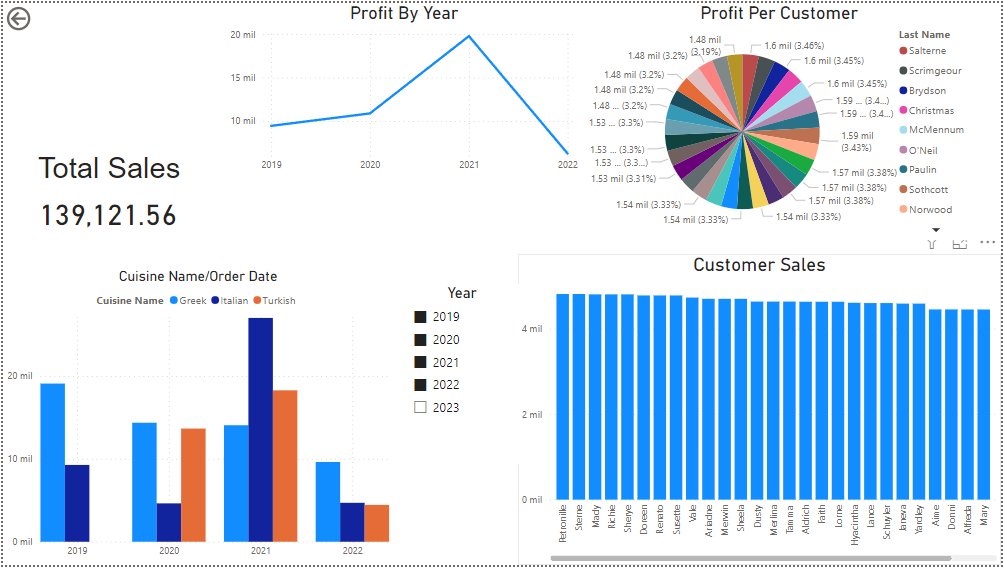

What the dashboard file says about the page in this screenshot:
{"tool":"powerbi","page":{"name":"Página 1","canvas":[1280,720],"ordinal":0},"visuals":[{"type":"columnChart","title":"Customer Sales","fields":{"Category":["Orders.First Name"],"Y":["Sum(Orders.Sales)"]},"box":[46.7,9.7,619.6,325.8],"z":0},{"type":"lineChart","title":"Profit By Year","fields":{"Category":["Orders.Order Date.Variación.Jerarquía de fechas.Año"],"Y":["Orders.ProfitSum"]},"box":[21.8,371.8,617.9,326.9],"z":1000},{"type":"pieChart","title":"Profit Per Customer","fields":{"Category":["Orders.Last Name"],"Y":["Orders.ProfitSum"]},"box":[704.2,0,543.7,325.8],"z":2000},{"type":"slicer","fields":{"Values":["Orders.Order Date.Variación.Jerarquía de fechas.Año"]},"box":[530.8,128.2,148.7,232.1],"z":3000},{"type":"actionButton","box":[0,0,100,40],"z":4000},{"type":"clusteredColumnChart","fields":{"Series":["Orders.Cuisine Name"],"Category":["Orders.Sales"]},"box":[704,372,544,327],"z":4001}]}

Visuals, with their boxes in screenshot pixels (x1, y1, x2, y2), scaled from the page's 1280x720 canvas onto the 1005x570 screenshot:
"Customer Sales" columnChart: x1=37 y1=8 x2=523 y2=266
"Profit By Year" lineChart: x1=17 y1=294 x2=502 y2=553
"Profit Per Customer" pieChart: x1=553 y1=0 x2=980 y2=258
slicer - Orders.Order Date.Variación.Jerarquía de fechas.Año: x1=417 y1=101 x2=534 y2=285
actionButton: x1=0 y1=0 x2=79 y2=32
clusteredColumnChart - Orders.Cuisine Name x Orders.Sales: x1=553 y1=294 x2=980 y2=553
